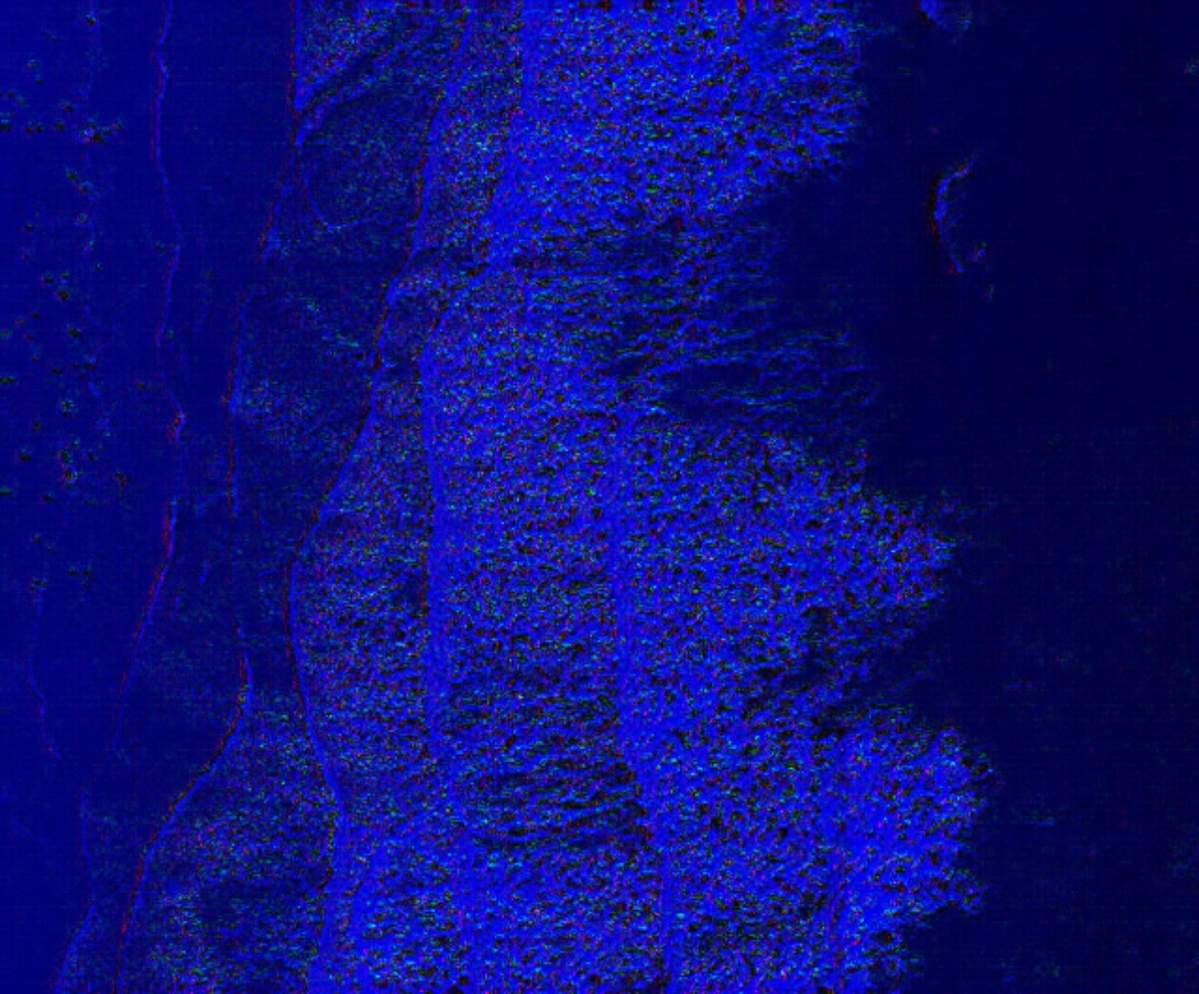rip_current: (370, 132, 888, 491)
